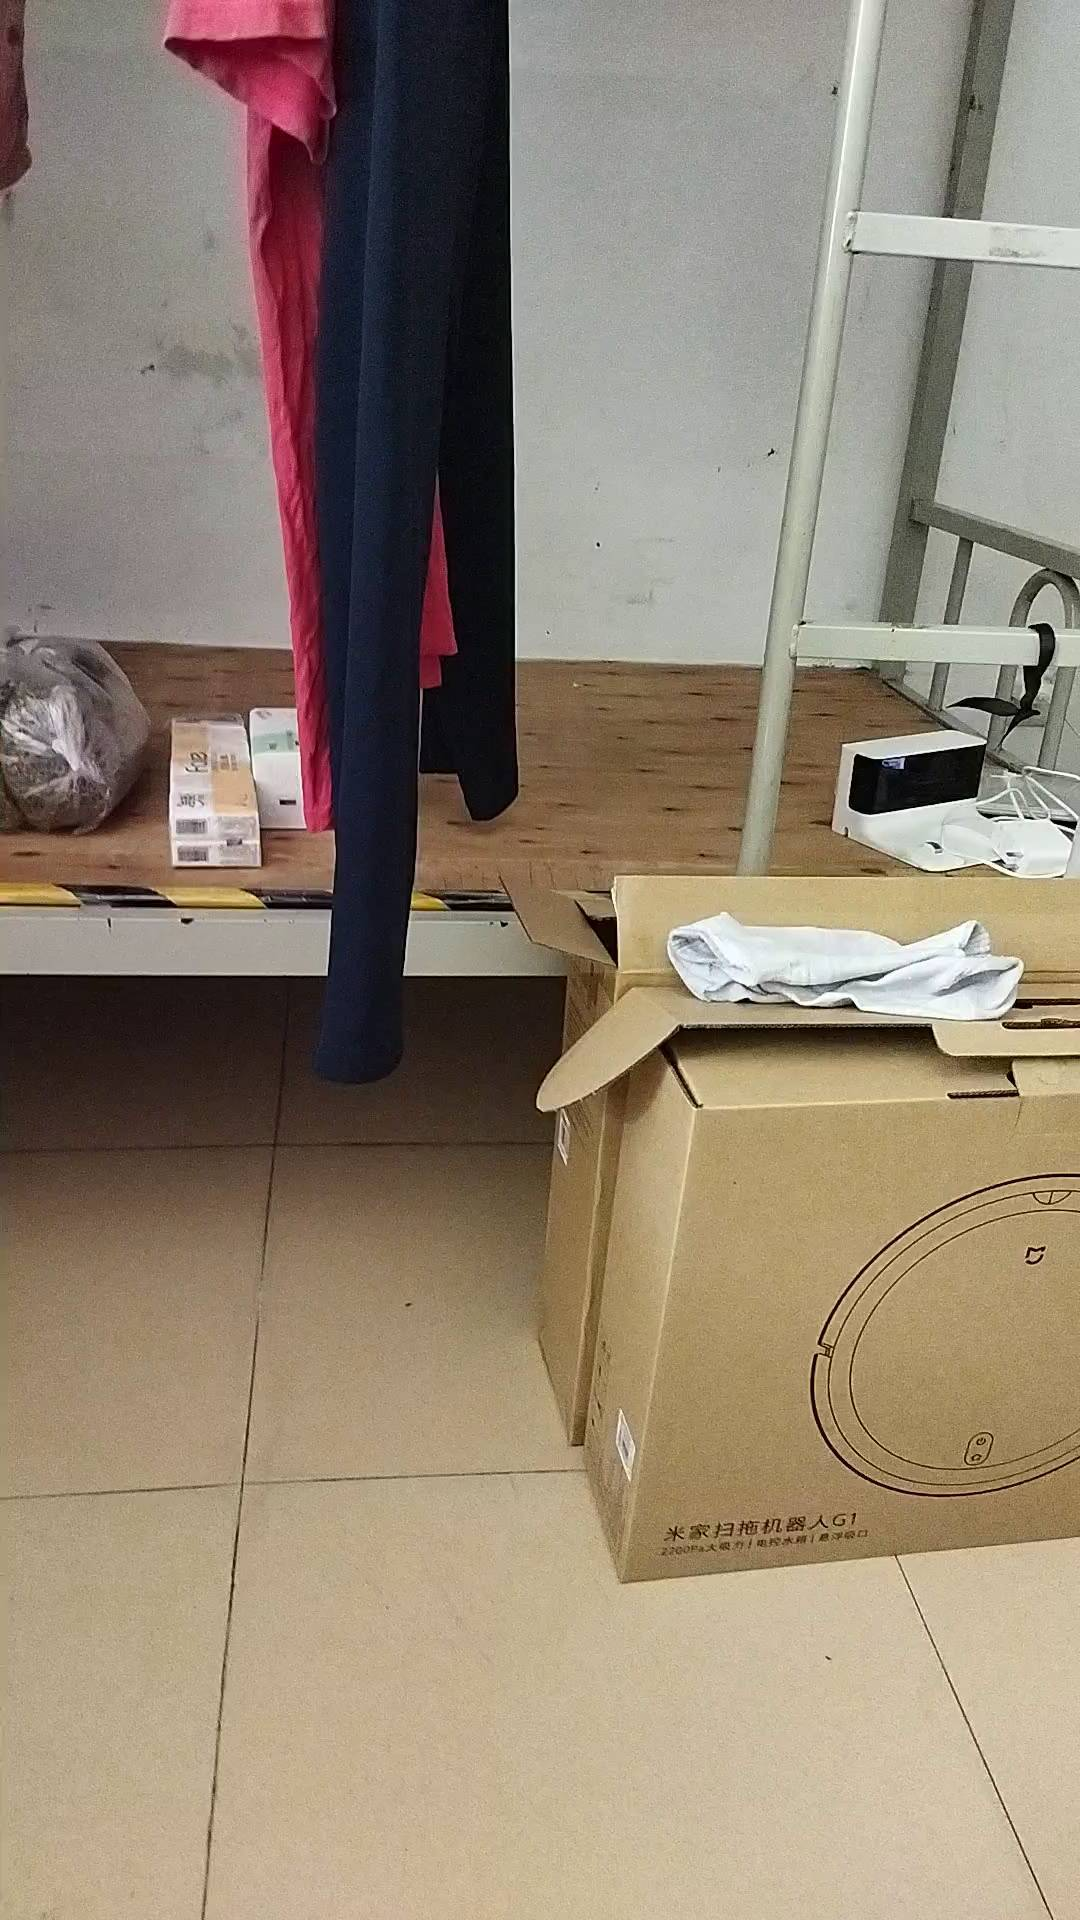recharge seat: (829, 727, 1018, 868)
